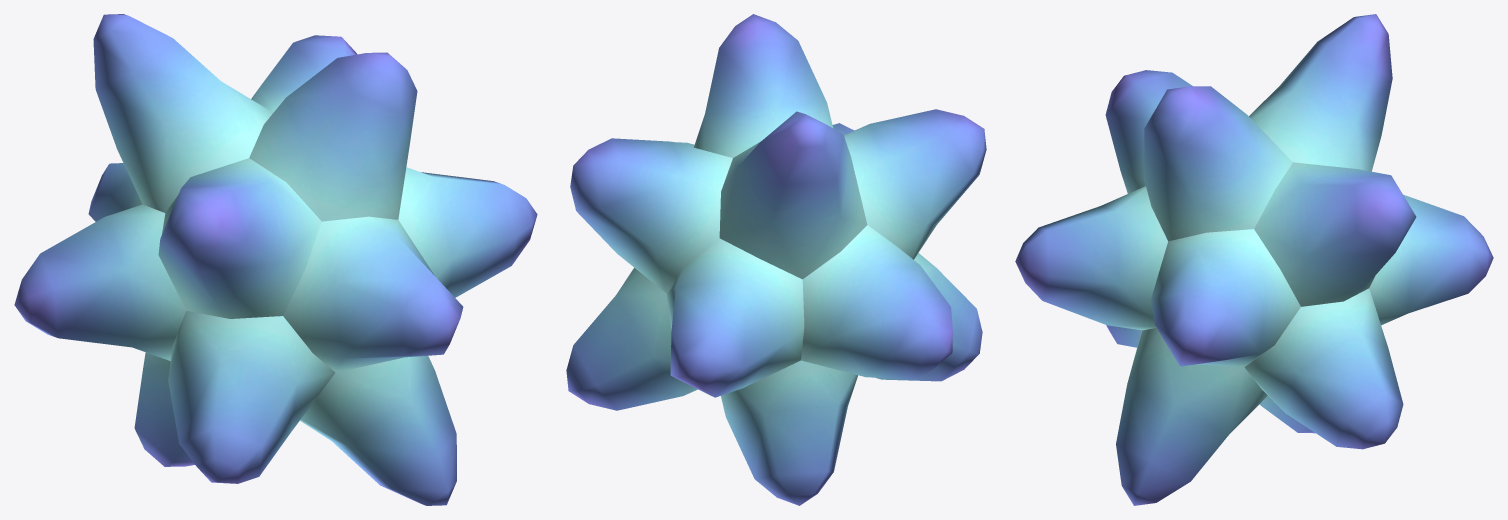
File: star.glb
3 renders of one model, left to right at view 1: azimuth 30°, elevation 25°; view 2: azimuth 150°, elevation 25°; view 3: azimuth 270°, elevation 25°, orthographic. The views are drawn at different scales.
Parts seen in each view (by area): view 1: Body__mBody; view 2: Body__mBody; view 3: Body__mBody.
Part boxes in pixels (box(x1,y1,x2,y2)): Body__mBody: box(14, 14, 537, 505); Body__mBody: box(566, 14, 986, 505); Body__mBody: box(1015, 14, 1493, 505).
Bounding box in the file's own units: 4.34 × 4.14 × 4.44.
Materials: 1 (1 with a texture image).
